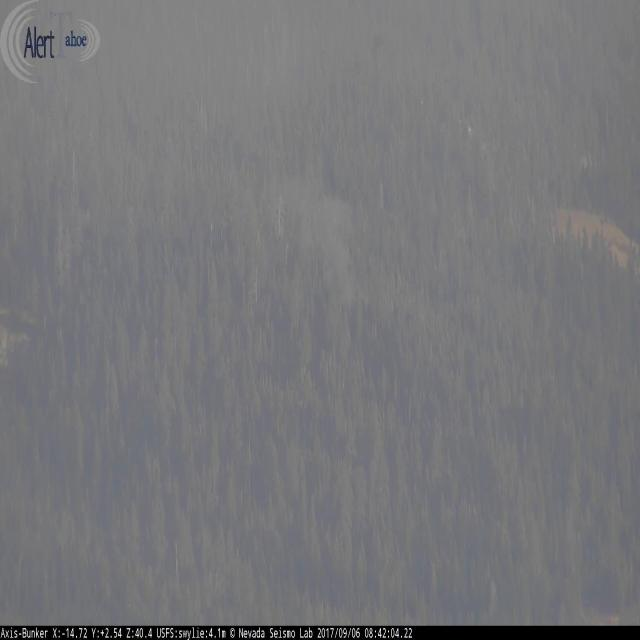smoke: (272, 143, 378, 329)
